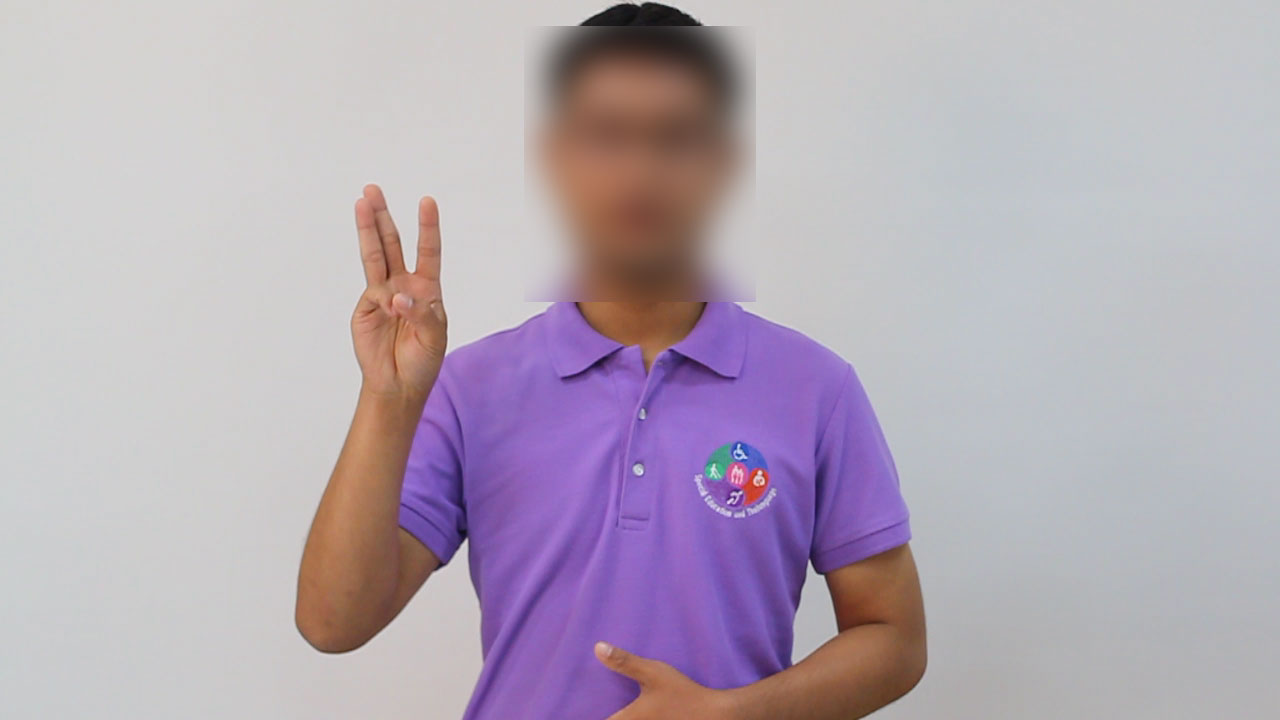wor: (338, 176, 457, 414)
